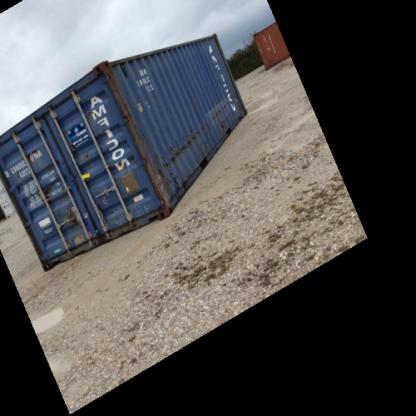Damage: (101, 66, 138, 124), (164, 126, 204, 172), (148, 174, 178, 208), (59, 204, 95, 226), (112, 149, 132, 187), (208, 103, 234, 129), (25, 138, 39, 171), (82, 138, 96, 168), (36, 182, 56, 203)
